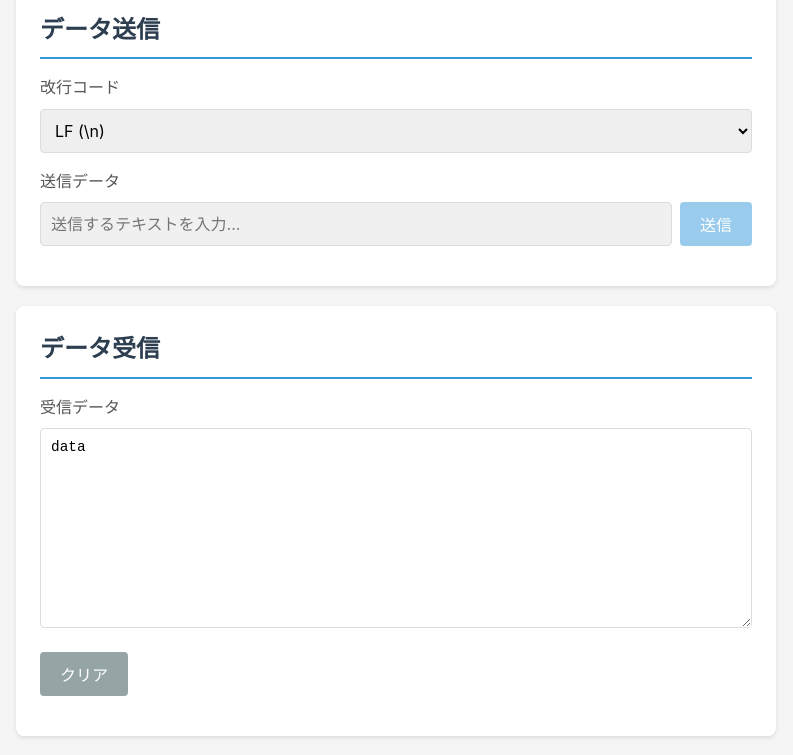
it: App › クリアボタンで受信データが空になる
(page scrolled)
Expected: the text box labelled "受信データ" holds "data", x1=40 y1=428 x2=752 y2=628
Click the button "クリア" at (84, 674), box x1=40 y1=652 x2=128 y2=696
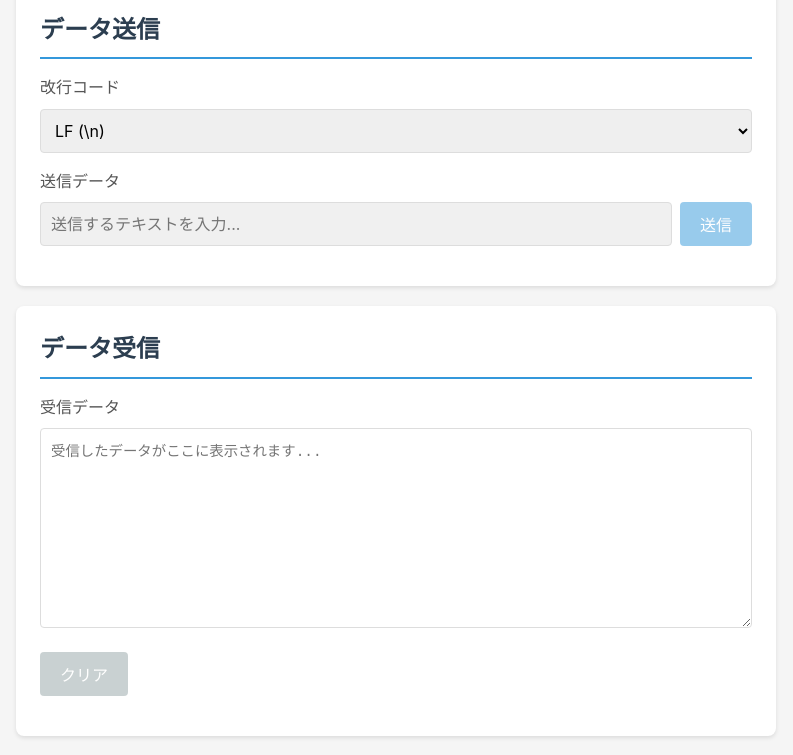
Expected: the text box labelled "受信データ" is empty, x1=40 y1=428 x2=752 y2=628
